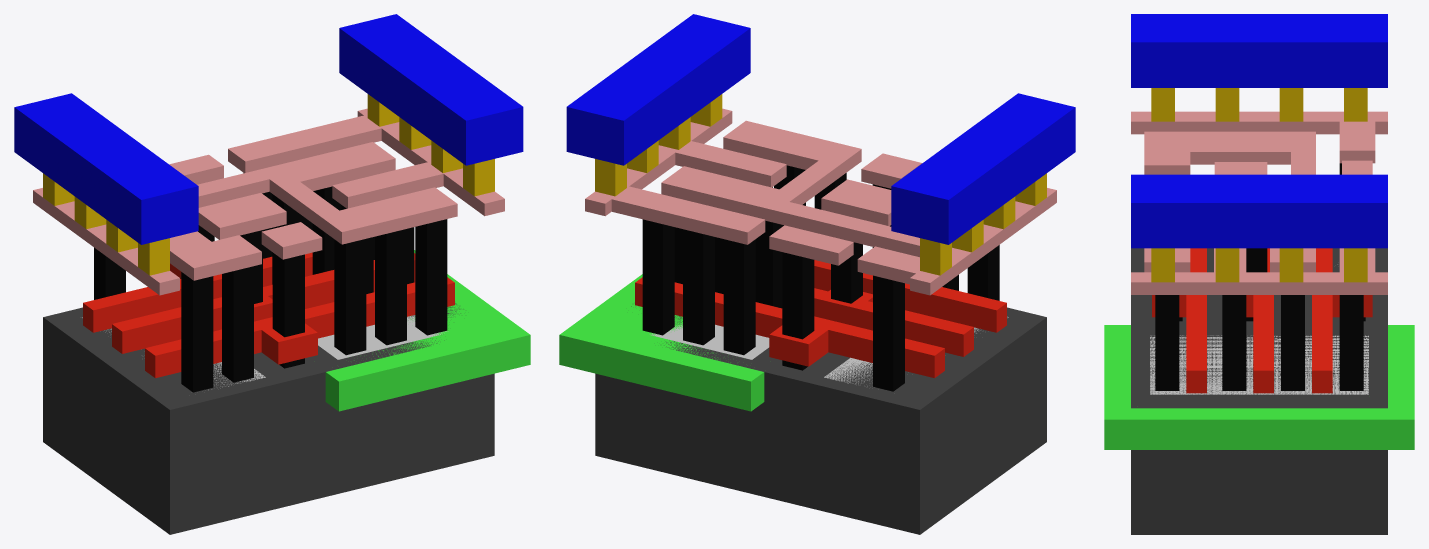
File: sky130_fd_sc_hd__nand3_1.obj
The picture shows the model from 3 angles, left to right: view 1: azimuth 30°, elevation 25°; view 2: azimuth 150°, elevation 25°; view 3: azimuth 270°, elevation 25°; orthographic projection.
Parts seen in each view (by area): view 1: subs, li, metal1, licon, poly, nwell, mcon, tap; view 2: subs, li, metal1, licon, poly, nwell, mcon, tap, diff; view 3: metal1, subs, li, nwell, licon, poly, mcon, tap.
Boxes of the visible parts, x1,y1,x2,y2 form: subs: (43, 303, 494, 534); li: (33, 108, 504, 295); metal1: (14, 14, 523, 244); licon: (94, 173, 447, 392); poly: (83, 252, 454, 378); nwell: (325, 250, 530, 411); mcon: (43, 94, 494, 275); tap: (318, 315, 448, 359); subs: (595, 306, 1046, 534); li: (585, 108, 1056, 295); metal1: (566, 14, 1075, 244); licon: (642, 165, 999, 391); poly: (635, 260, 1006, 378); nwell: (559, 274, 764, 411); mcon: (595, 94, 1046, 275); tap: (650, 324, 769, 359); diff: (824, 316, 1008, 386); metal1: (1131, 14, 1387, 248); subs: (1131, 248, 1387, 534); li: (1131, 111, 1387, 294); nwell: (1104, 325, 1414, 449); licon: (1155, 163, 1365, 390); poly: (1152, 248, 1372, 393); mcon: (1151, 88, 1367, 282); tap: (1150, 335, 1368, 394).
Size of the model in its own units: 3.2 by 2.74 by 2.22.
